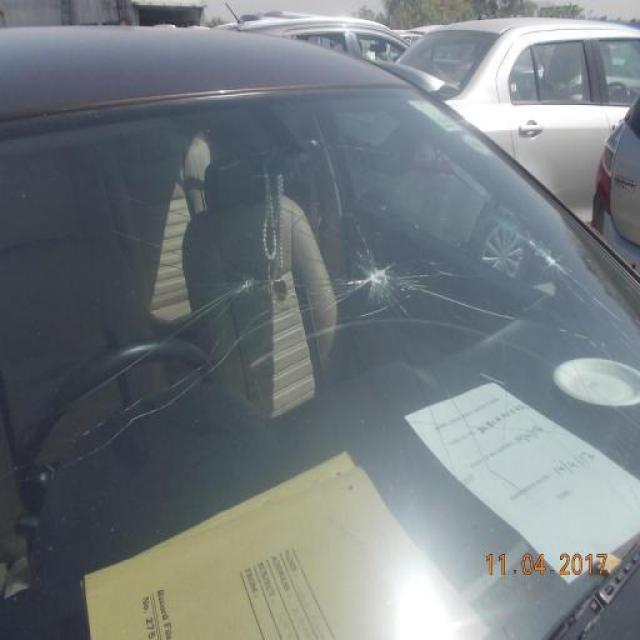crack: (347, 247, 412, 307), (231, 261, 269, 298), (534, 238, 564, 274)
